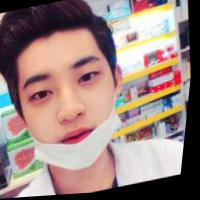NONE: (1, 61, 5, 77)
WRONG: (16, 50, 131, 177)
